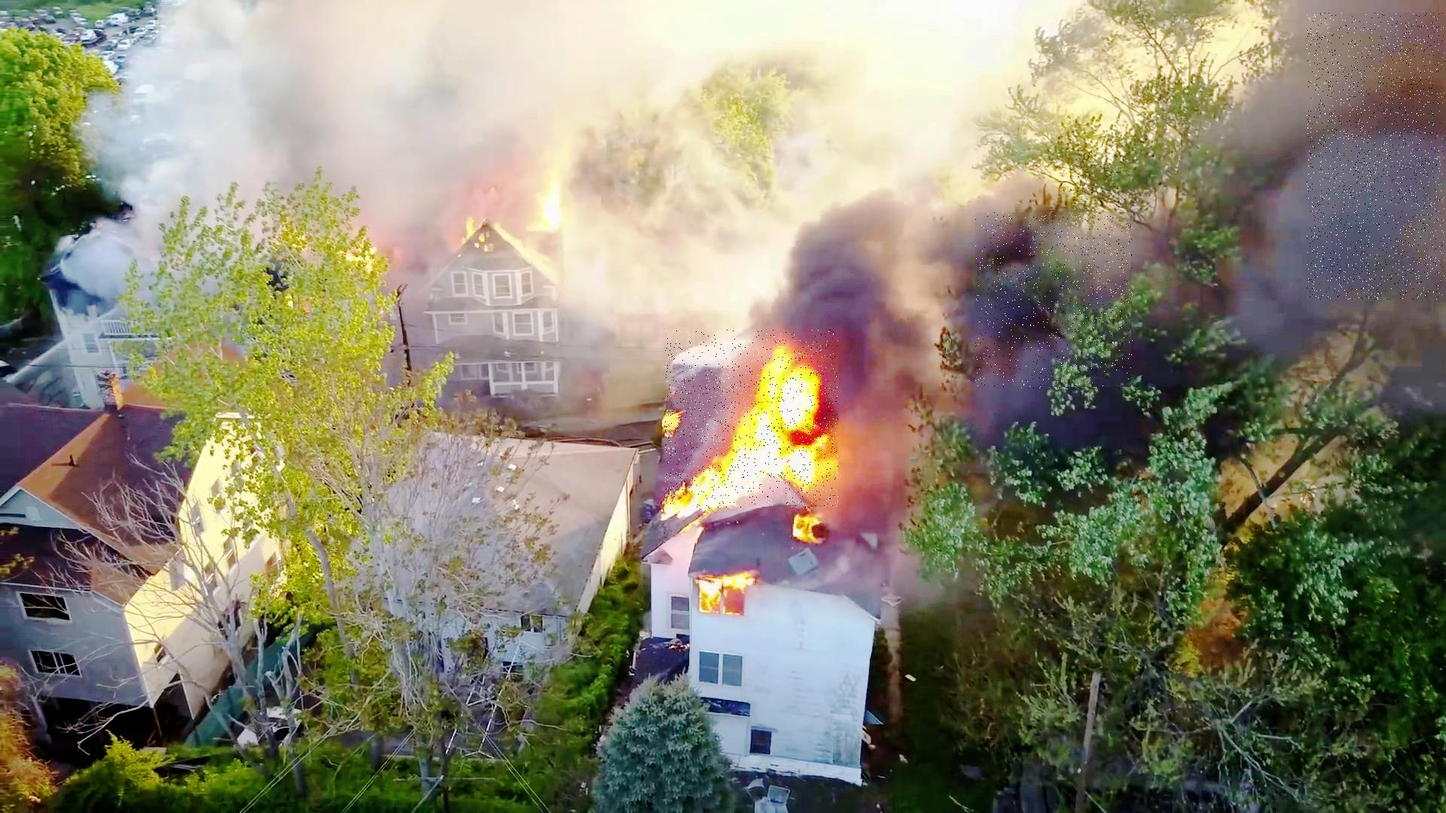fire: (665, 330, 838, 508)
smoke: (1307, 13, 1445, 300), (976, 213, 1133, 389)
